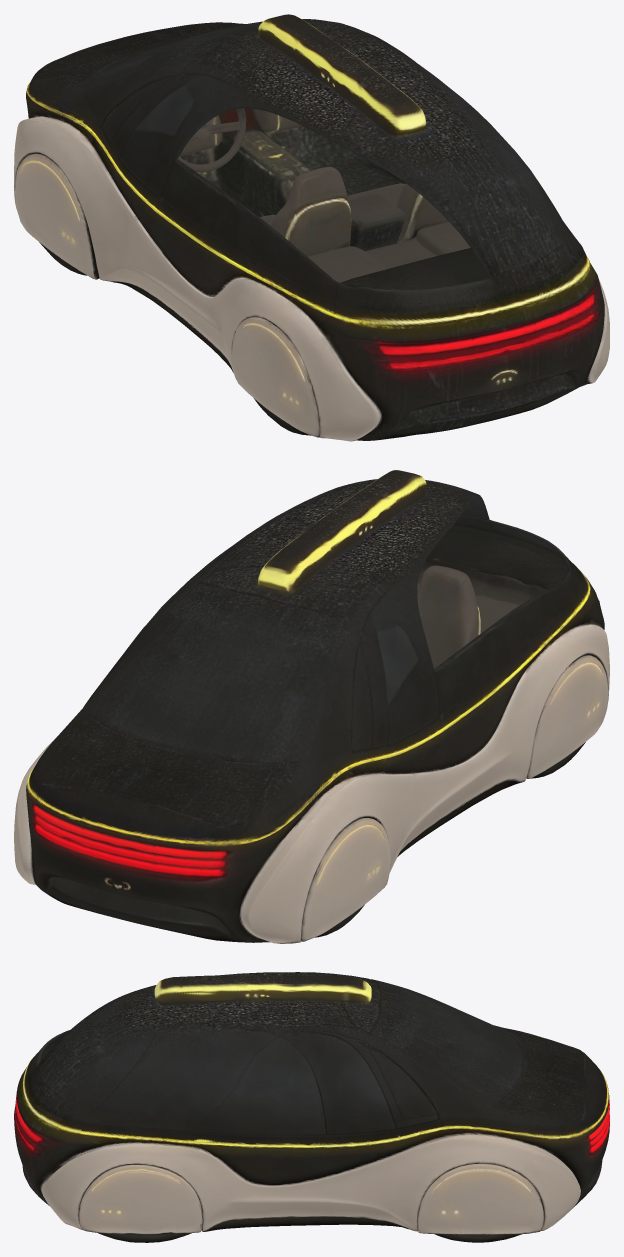
File: cab.glb
3 renders of one model, top to bottom at view 1: azimuth 30°, elevation 25°; view 2: azimuth 150°, elevation 25°; view 3: azimuth 270°, elevation 25°, orthographic. The views are drawn at different scales.
Visible parts, largest first — view 1: SM_cab; view 2: SM_cab; view 3: SM_cab.
Part boxes in pixels (bbox=[...]): SM_cab: bbox=[14, 14, 609, 441]; SM_cab: bbox=[14, 470, 609, 943]; SM_cab: bbox=[14, 972, 609, 1242].
Bounding box in the file's own units: 0.4491 × 0.3918 × 0.9801.
1 material, 1 textured.
